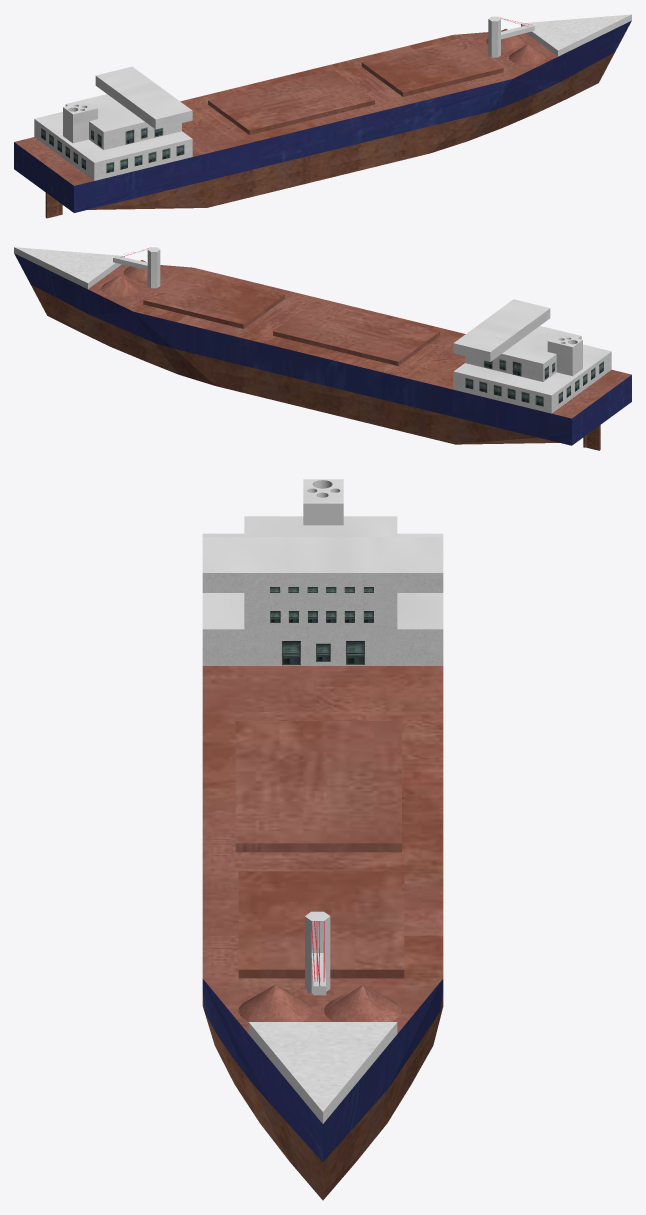
The picture shows the model from 3 angles, top to bottom: view 1: azimuth 30°, elevation 25°; view 2: azimuth 150°, elevation 25°; view 3: azimuth 270°, elevation 25°; orthographic projection. The views are drawn at different scales.
Size of the model in its own units: 131 by 21.66 by 23.21.
1 material, 1 textured.
